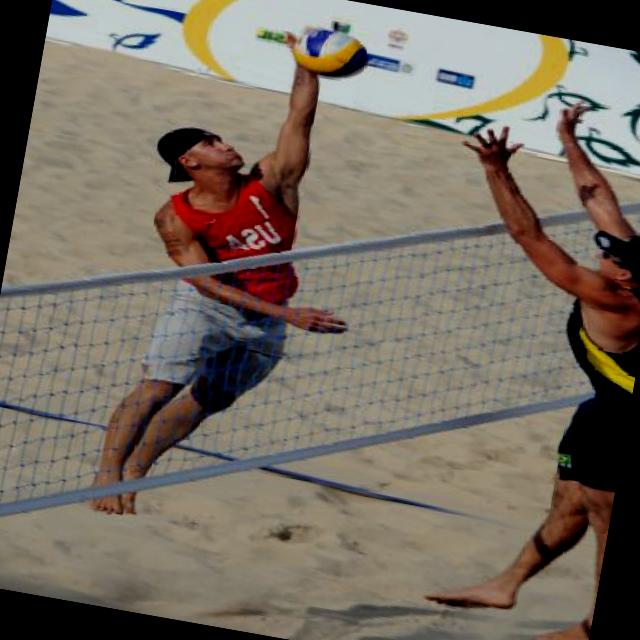Person: (93, 2, 411, 553), (385, 84, 640, 640)
